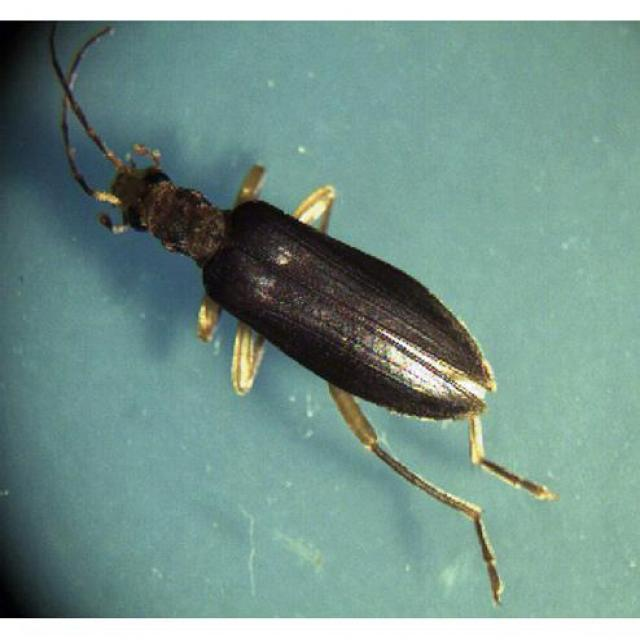BlisterBeetle-Adult-: (39, 35, 586, 593)
